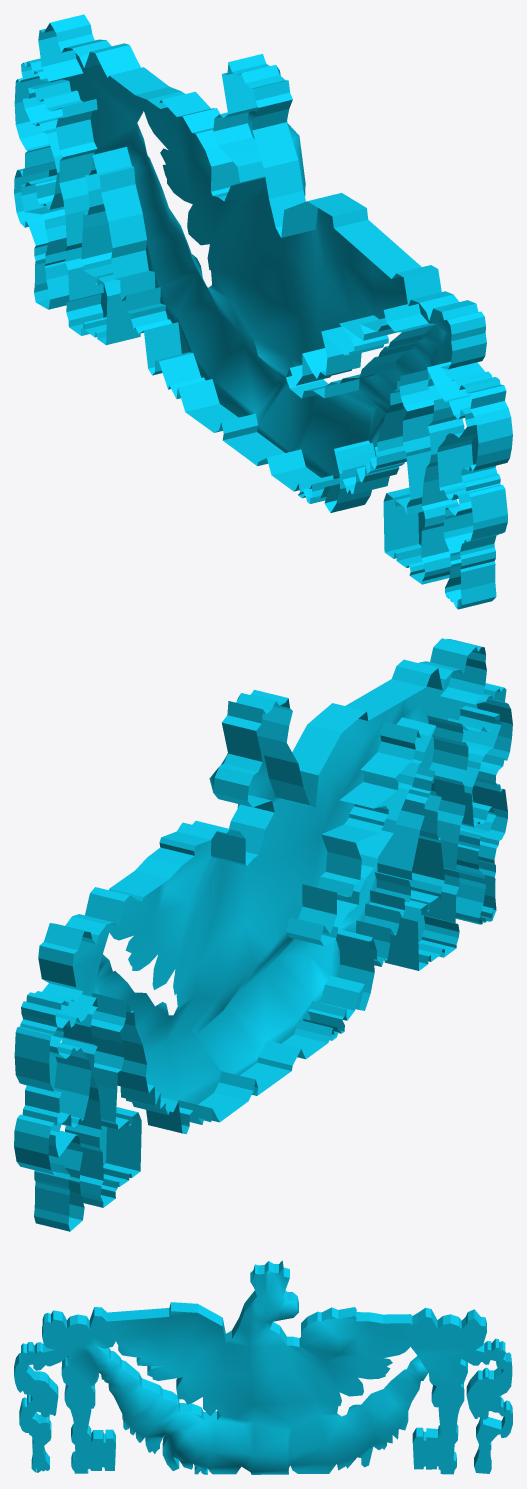
File: EnterDoor_R01.FBX
3 views of the same model, one above another, from view 1: azimuth 30°, elevation 25°; view 2: azimuth 150°, elevation 25°; view 3: azimuth 270°, elevation 25° (orthographic). The views are drawn at different scales.
Parts seen in each view (by area): view 1: Plane018; view 2: Plane018; view 3: Plane018.
Boxes of the visible parts, x1=… form: Plane018: x1=14, y1=14, x2=512, y2=609; Plane018: x1=14, y1=638, x2=512, y2=1231; Plane018: x1=14, y1=1260, x2=512, y2=1474.
Size of the model in its own units: 25.02 by 142 by 312.
